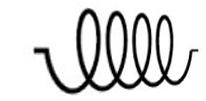inductor: (24, 12, 196, 98)
